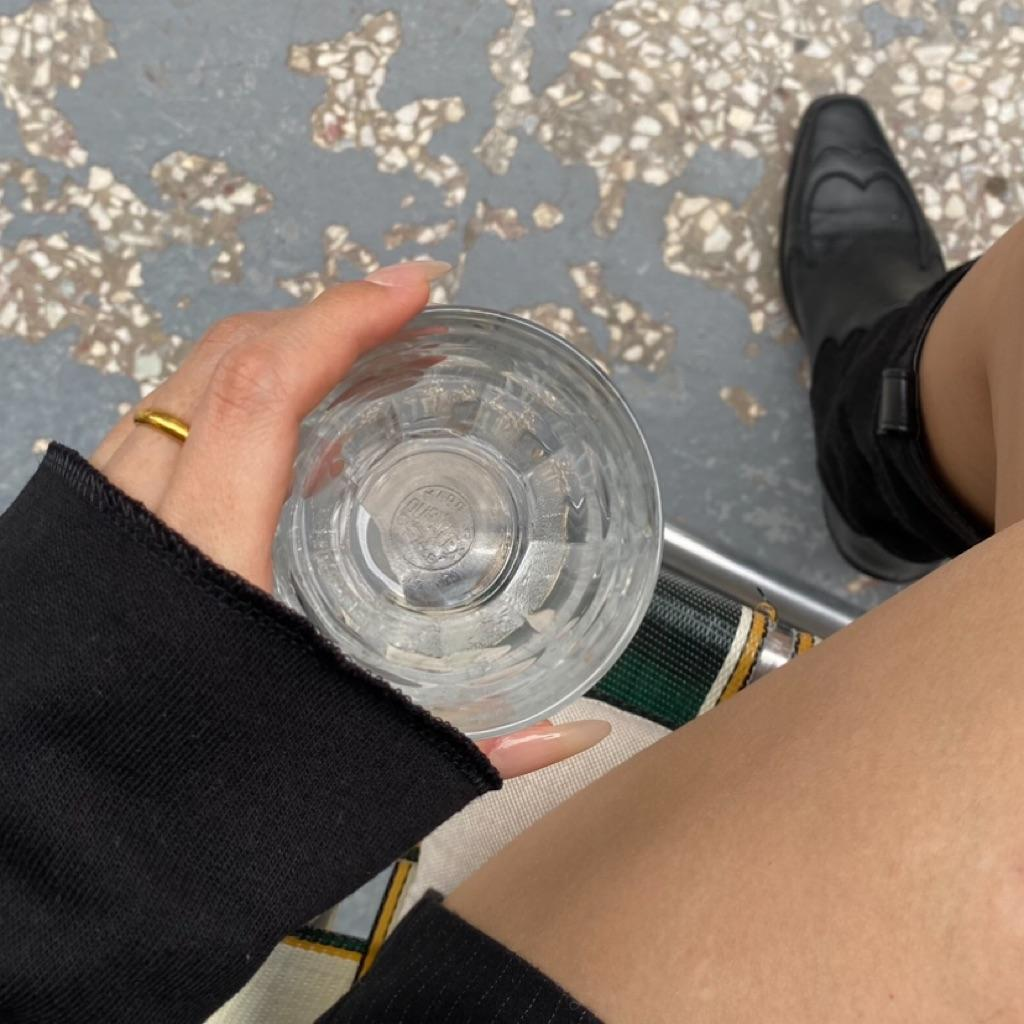nail: (471, 716, 612, 780), (363, 258, 453, 286), (131, 406, 190, 443)
